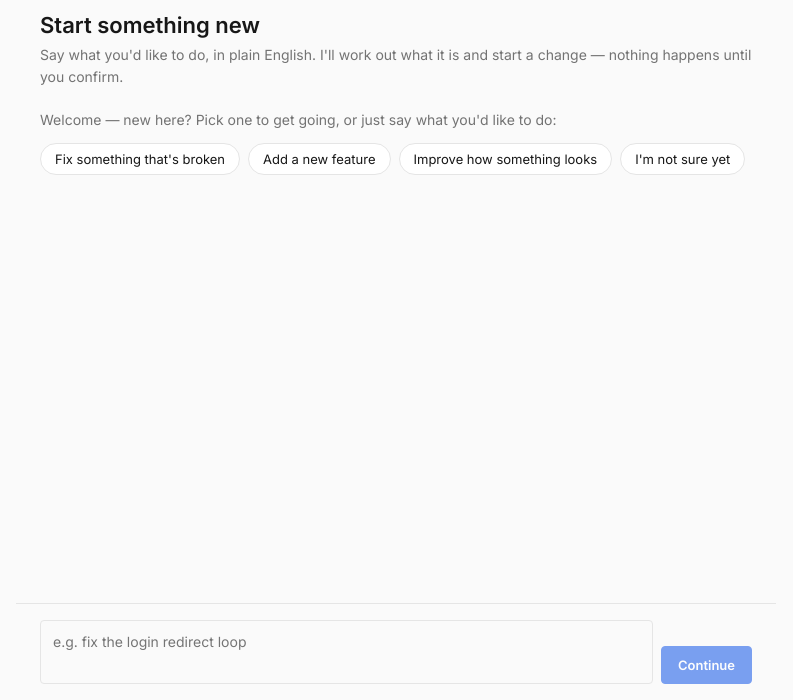
<StartFromIntent /> — cold-start chips + welcome (WP-003) › chips_hidden_when_draft_non_empty: typing in the box hides the chips/welcome
Expected: the element with test id "cold-start" is shown, [40,105,752,179]
Type "fix the login bug" into the text box at (346, 652), box [40,620,653,684]
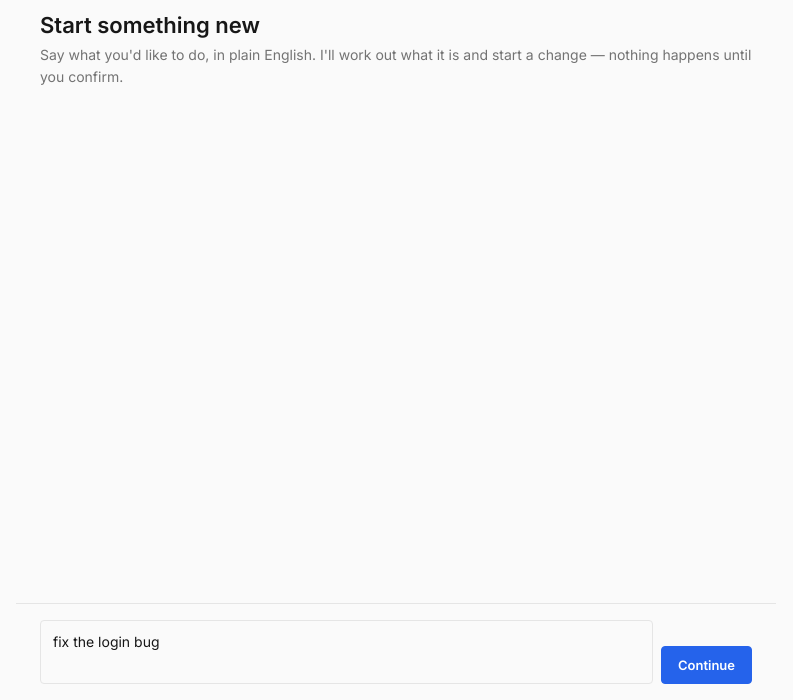
Now the element with test id "cold-start" is gone
